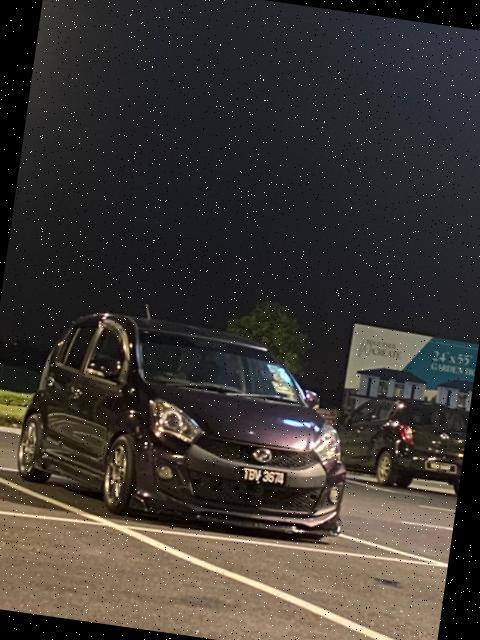License_Plate: (234, 463, 299, 493)
car: (9, 301, 367, 550)
